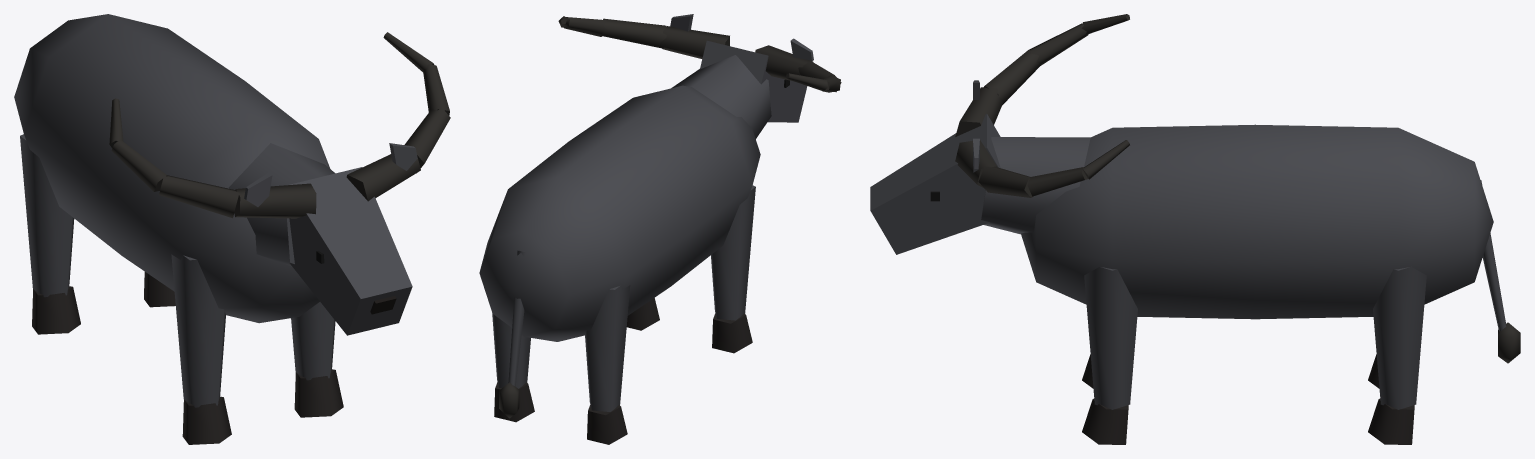
The model's file is kerbau.glb.
3 views of the same model, side by side, from view 1: azimuth 30°, elevation 25°; view 2: azimuth 150°, elevation 25°; view 3: azimuth 270°, elevation 25° (orthographic). The views are drawn at different scales.
Parts seen in each view (by area): view 1: body, head, leg_fr, leg_rr, leg_fl, leg_rl; view 2: body, head, leg_rr, leg_fr, leg_rl, tail, leg_fl; view 3: body, head, leg_fl, leg_rl, tail.
Part boxes in pixels (left/top/right/bottom): body: left=14, top=14, right=335, bottom=323; head: left=109, top=32, right=450, bottom=335; leg_fr: left=171, top=254, right=231, bottom=444; leg_rr: left=20, top=134, right=80, bottom=334; leg_fl: left=291, top=302, right=343, bottom=417; leg_rl: left=144, top=272, right=175, bottom=307; body: left=479, top=55, right=771, bottom=341; head: left=558, top=14, right=841, bottom=122; leg_rr: left=585, top=285, right=630, bottom=444; leg_fr: left=711, top=185, right=755, bottom=353; leg_rl: left=492, top=314, right=534, bottom=422; tail: left=499, top=250, right=525, bottom=418; leg_fl: left=626, top=298, right=659, bottom=330; body: left=981, top=124, right=1493, bottom=319; head: left=870, top=14, right=1129, bottom=254; leg_fl: left=1082, top=267, right=1137, bottom=444; leg_rl: left=1368, top=267, right=1426, bottom=444; tail: left=1480, top=180, right=1520, bottom=363.
Bounding box in the file's own units: 1.49 × 1.56 × 2.73.
Materials: 1 (1 with a texture image).
